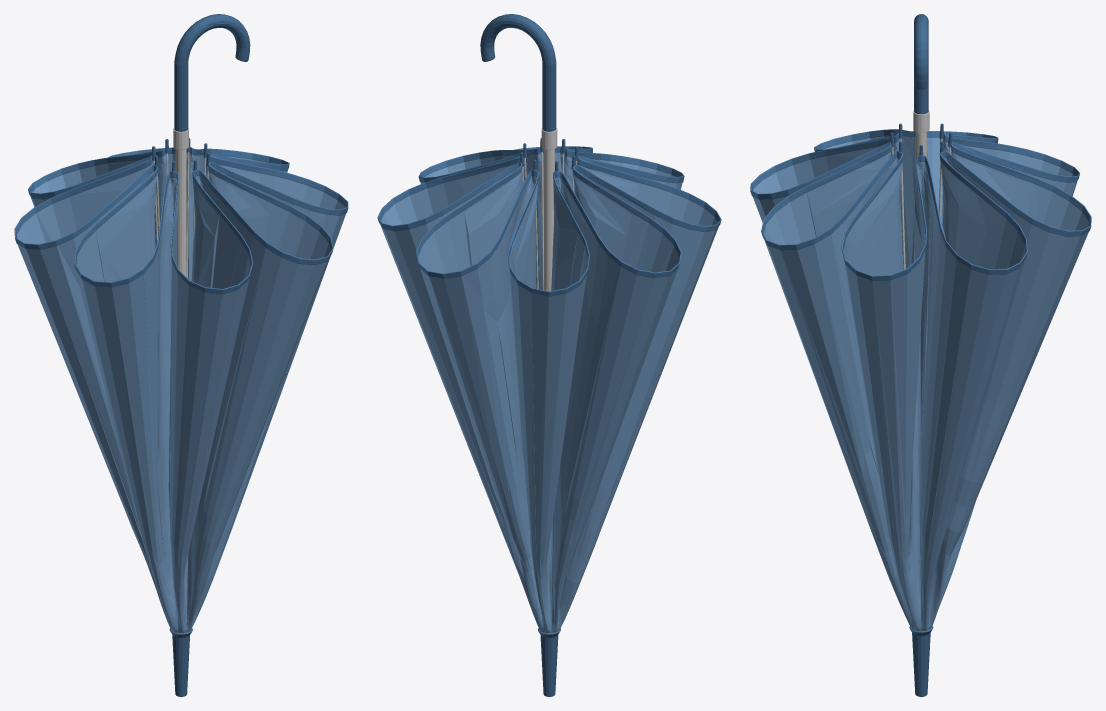
Rendered from sweethome3d-blendswap-cc-0-umbrella-79.glb.
3 renders of one model, left to right at view 1: azimuth 30°, elevation 25°; view 2: azimuth 150°, elevation 25°; view 3: azimuth 270°, elevation 25°, orthographic. The views are drawn at different scales.
Parts seen in each view (by area): view 1: fabric_Circle, trim_Circle.001, handle_Cylinder.004, pole_Cylinder.003, tip_Cylinder.002; view 2: fabric_Circle, trim_Circle.001, handle_Cylinder.004, pole_Cylinder.003, tip_Cylinder.002; view 3: fabric_Circle, trim_Circle.001, handle_Cylinder.004, tip_Cylinder.002.
Part boxes in pixels (x1,y1,x2,y2): fabric_Circle: (17, 153, 345, 632); trim_Circle.001: (14, 147, 348, 294); handle_Cylinder.004: (174, 14, 250, 131); pole_Cylinder.003: (175, 149, 186, 276); tip_Cylinder.002: (169, 628, 192, 696); fabric_Circle: (380, 152, 718, 632); trim_Circle.001: (377, 146, 721, 296); handle_Cylinder.004: (480, 14, 556, 131); pole_Cylinder.003: (544, 149, 554, 291); tip_Cylinder.002: (538, 628, 560, 696); fabric_Circle: (753, 136, 1088, 630); trim_Circle.001: (750, 129, 1091, 281); handle_Cylinder.004: (914, 14, 928, 114); tip_Cylinder.002: (909, 626, 933, 696).
Bounding box in the file's own units: 35.8 × 80.01 × 35.74.
